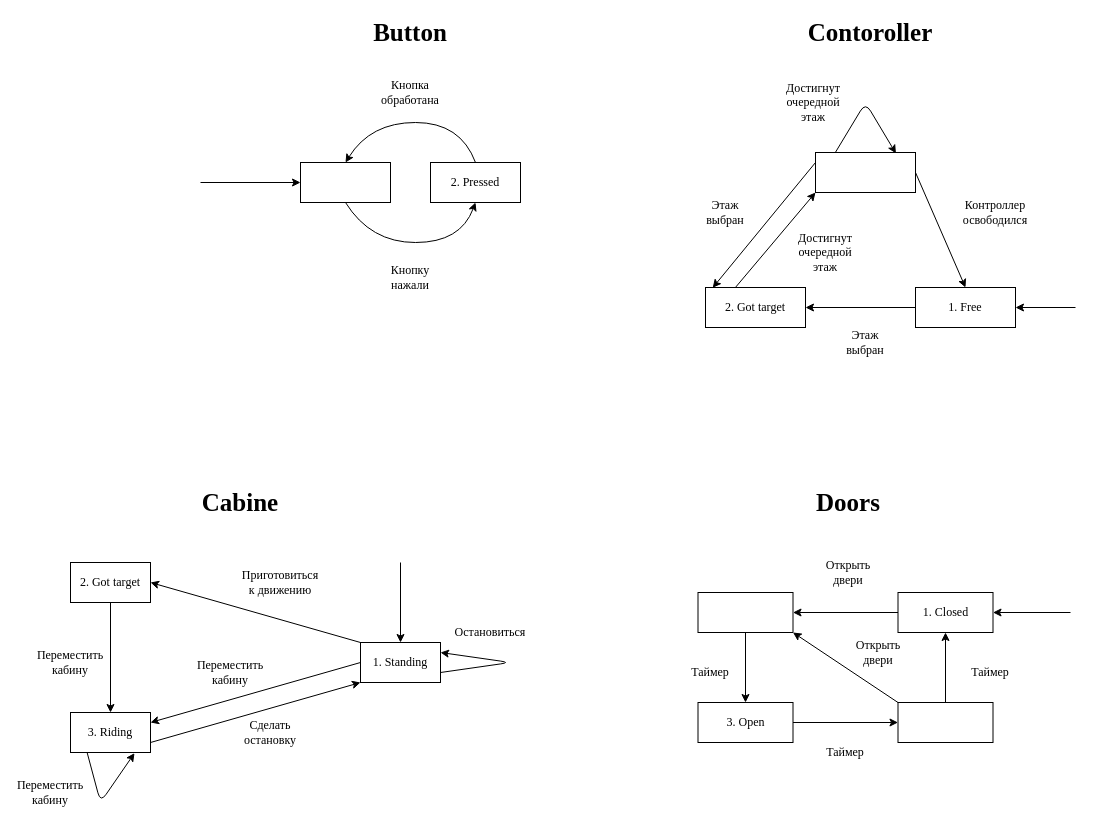
The diagram is 1101 pixels wide and 828 high, and some of its shapes have lost their labels. The centre of each missing label's shape, as x and y in pixels:
"1. Not pressed" goes at point (345, 182).
"2. Opening" goes at point (745, 612).
"3. Busy" goes at point (865, 172).
"4. Closing" goes at point (945, 722).
